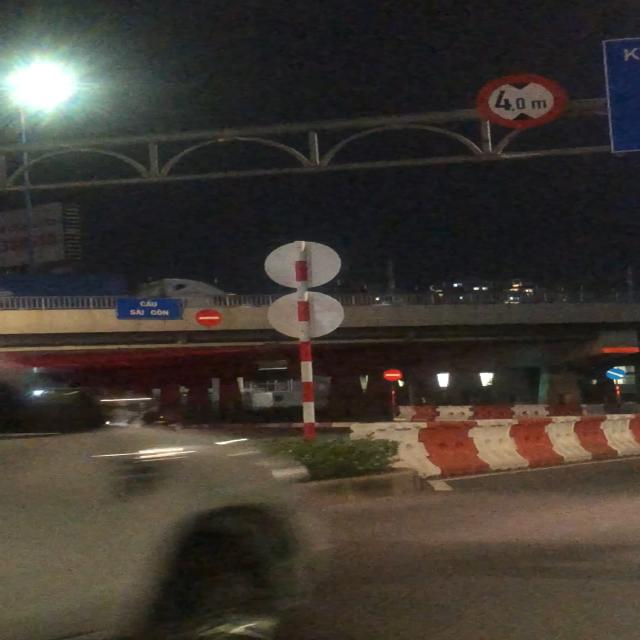Bien bao cam di nguoc chieu: (193, 310, 225, 328), (380, 368, 406, 382)
Bien bao han che chieu cao: (471, 73, 570, 130)
Bien bao huong phai di vong chuong ngai vat: (605, 366, 627, 381)
